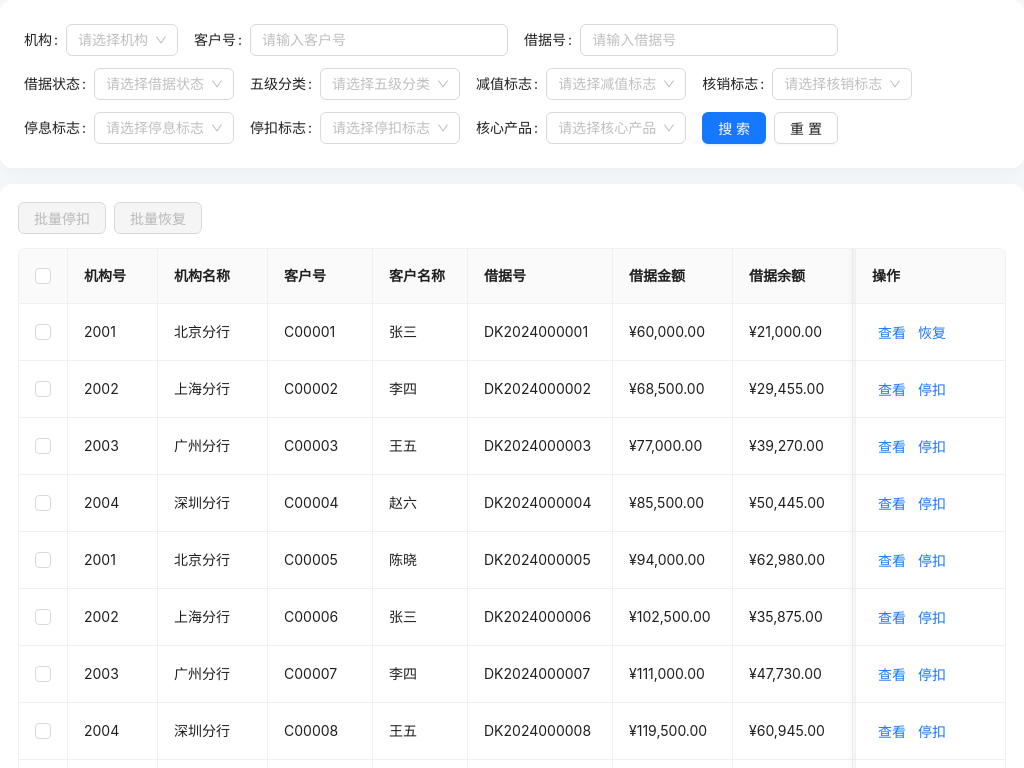
Scenario: 批扣操作执行页 › 加载指定列并支持查看借据
The width and height of the screenshot is (1024, 768).
Expected: the column heading "借据号" is shown, [468,249,613,304]
Expected: the column heading "机构号" is shown, [68,249,158,304]
Click the button "查看" in the row of "C00001" at (892, 332), box [872,320,912,344]
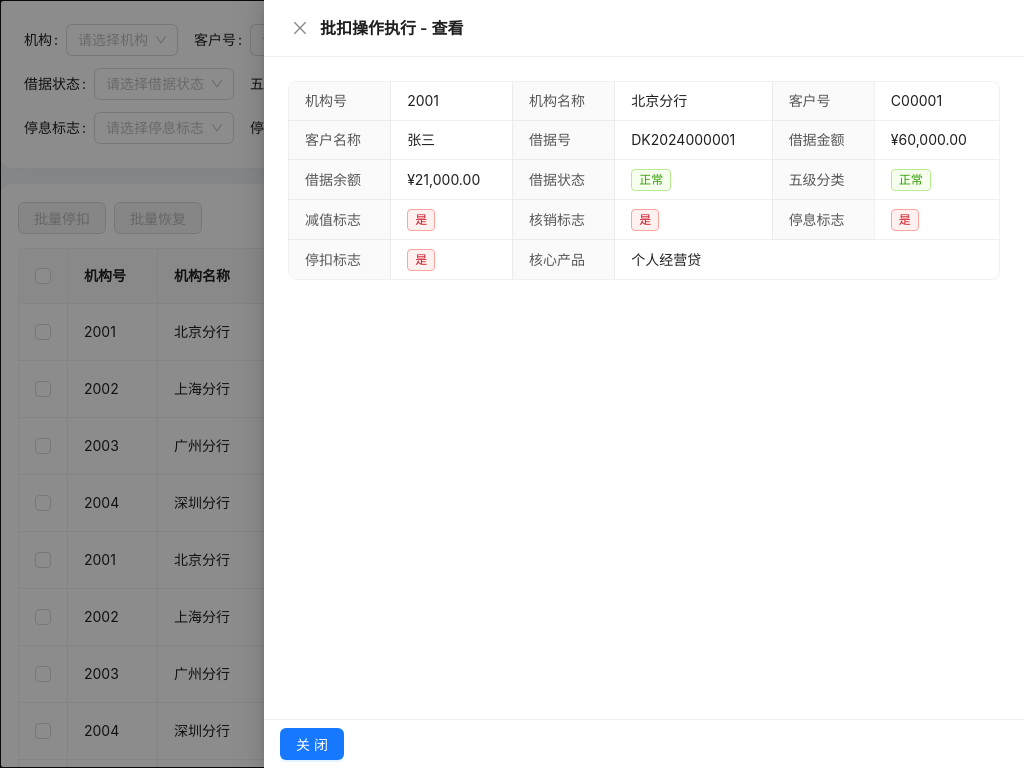
Expected: the text "核心产品" is shown, [476,112,546,144]
Now the text "批扣操作执行 - 查看" is shown, box [320,18,464,38]
